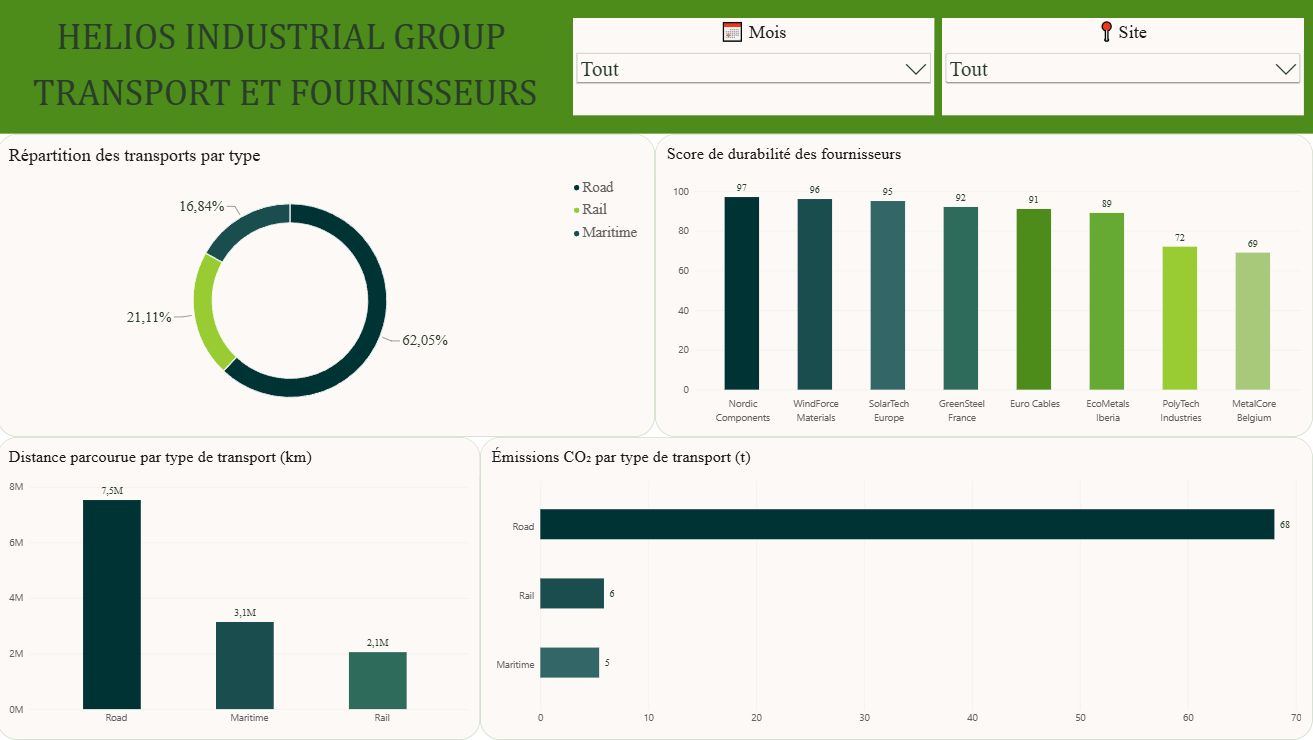

Layout of this report page (visuals, bound fields, positions):
{"tool":"powerbi","page":{"name":"TRANSPORT & FOURNISSEURS","canvas":[1920,1080],"ordinal":3},"visuals":[{"type":"textbox","box":[0,0,1920,195],"z":0},{"type":"textbox","box":[0,26.3,840.4,153.2],"z":1000},{"type":"donutChart","title":"Répartition des transports par type","fields":{"Category":["mart_transport.transport_type"],"Y":["CountNonNull(mart_transport.transport_company_id)"]},"box":[0,195.5,960,442.1],"z":4000},{"type":"clusteredBarChart","title":"Émissions CO₂ par type de transport (t)","fields":{"Category":["mart_transport.transport_type"],"Y":["Mesures.CO2 par Mois (t)"]},"box":[704.7,637.6,1215.3,442.1],"z":5000},{"type":"columnChart","title":"Score de durabilité des fournisseurs","fields":{"Category":["mart_supplier.supplier_name"],"Y":["Sum(mart_supplier.sustainability_score)"]},"box":[960,196,960,442],"z":6000},{"type":"columnChart","title":"Distance parcourue par type de transport (km)","fields":{"Category":["mart_transport.transport_type"],"Y":["Sum(mart_transport.distance_km)"]},"box":[0,638,705,442],"z":7000},{"type":"slicer","title":"📅 Mois","fields":{"Values":["dim_date.Mois"]},"box":[840,26.7,526.7,141.7],"z":7001},{"type":"slicer","title":"📍 Site","fields":{"Values":["site.site_name"]},"box":[1378.3,26.7,528.3,141.7],"z":7002}]}

Visuals, with their boxes in screenshot pixels (x1, y1, x2, y2), scaled from the page's 1920x1080 canvas onto the 1313x740 screenshot:
textbox: Rect(0, 0, 1312, 134)
textbox: Rect(0, 18, 575, 123)
"Répartition des transports par type" donutChart: Rect(0, 134, 656, 437)
"Émissions CO₂ par type de transport (t)" clusteredBarChart: Rect(482, 437, 1312, 739)
"Score de durabilité des fournisseurs" columnChart: Rect(656, 134, 1312, 437)
"Distance parcourue par type de transport (km)" columnChart: Rect(0, 437, 482, 739)
"📅 Mois" slicer: Rect(574, 18, 935, 115)
"📍 Site" slicer: Rect(943, 18, 1304, 115)
